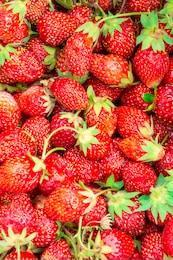Fresa: (40, 180, 99, 227), (60, 18, 100, 81), (96, 8, 138, 62), (83, 48, 137, 90), (132, 34, 172, 90), (34, 7, 86, 50), (112, 131, 167, 168), (107, 187, 148, 236), (84, 223, 138, 260), (108, 101, 156, 141), (45, 108, 88, 151), (15, 81, 57, 120), (84, 95, 118, 137)
